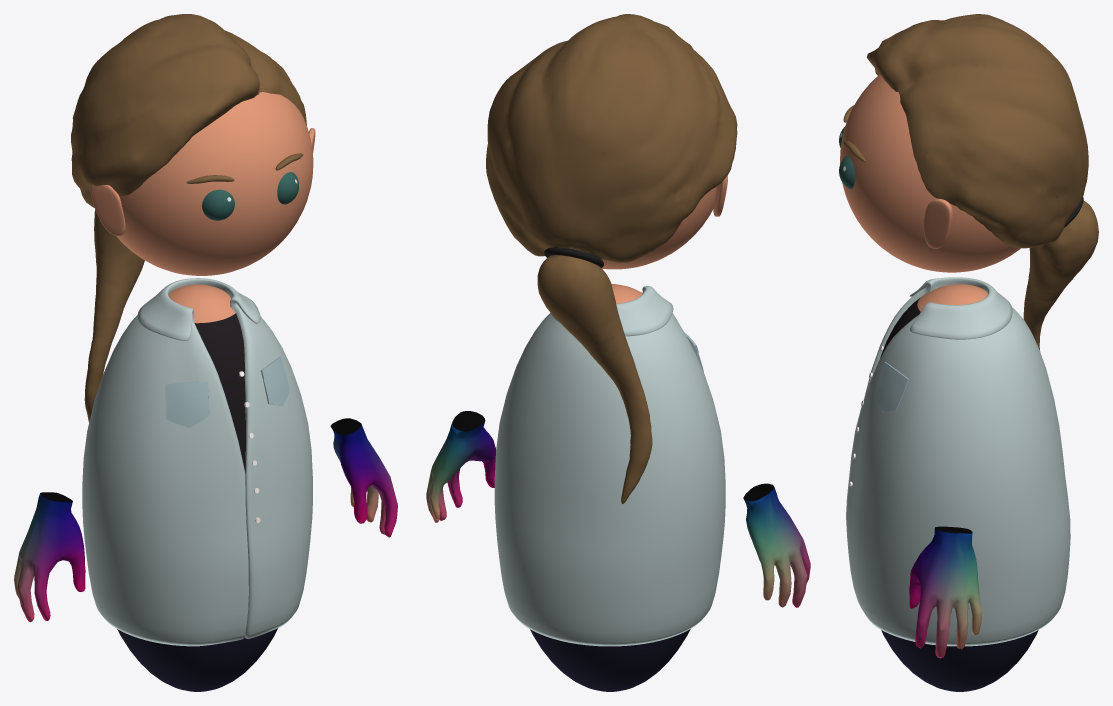
Rendered from VeronikaSzkudlarek.fbx.
3 renders of one model, left to right at view 1: azimuth 30°, elevation 25°; view 2: azimuth 150°, elevation 25°; view 3: azimuth 270°, elevation 25°, orthographic.
Parts seen in each view (by area): view 1: Shirt.006, Sphere.008, Head.014, Body.021, Hands.014, Cube.023, Eyes.014, Cube.021, Cube.022; view 2: Shirt.006, Sphere.008, Hands.014, Body.021, Head.014; view 3: Shirt.006, Sphere.008, Head.014, Hands.014, Body.021, Cube.021, Cube.022, Eyes.014.
Part boxes in pixels (<box>): Shirt.006: <box>82,278,312,646</box>; Sphere.008: <box>71,14,306,422</box>; Head.014: <box>116,92,313,275</box>; Body.021: <box>117,284,277,691</box>; Hands.014: <box>14,418,397,622</box>; Cube.023: <box>165,381,209,427</box>; Eyes.014: <box>202,172,298,220</box>; Cube.021: <box>90,128,315,235</box>; Cube.022: <box>260,356,289,405</box>; Shirt.006: <box>494,286,725,646</box>; Sphere.008: <box>486,14,737,504</box>; Hands.014: <box>426,411,810,607</box>; Body.021: <box>530,284,690,691</box>; Head.014: <box>602,186,716,269</box>; Shirt.006: <box>846,277,1070,646</box>; Sphere.008: <box>867,14,1098,350</box>; Head.014: <box>840,74,1021,272</box>; Hands.014: <box>909,526,982,658</box>; Body.021: <box>880,284,1038,691</box>; Cube.021: <box>923,198,952,248</box>; Cube.022: <box>874,362,909,411</box>; Eyes.014: <box>839,127,854,188</box>.
Size of the model in its own units: 383 by 644 by 229.
